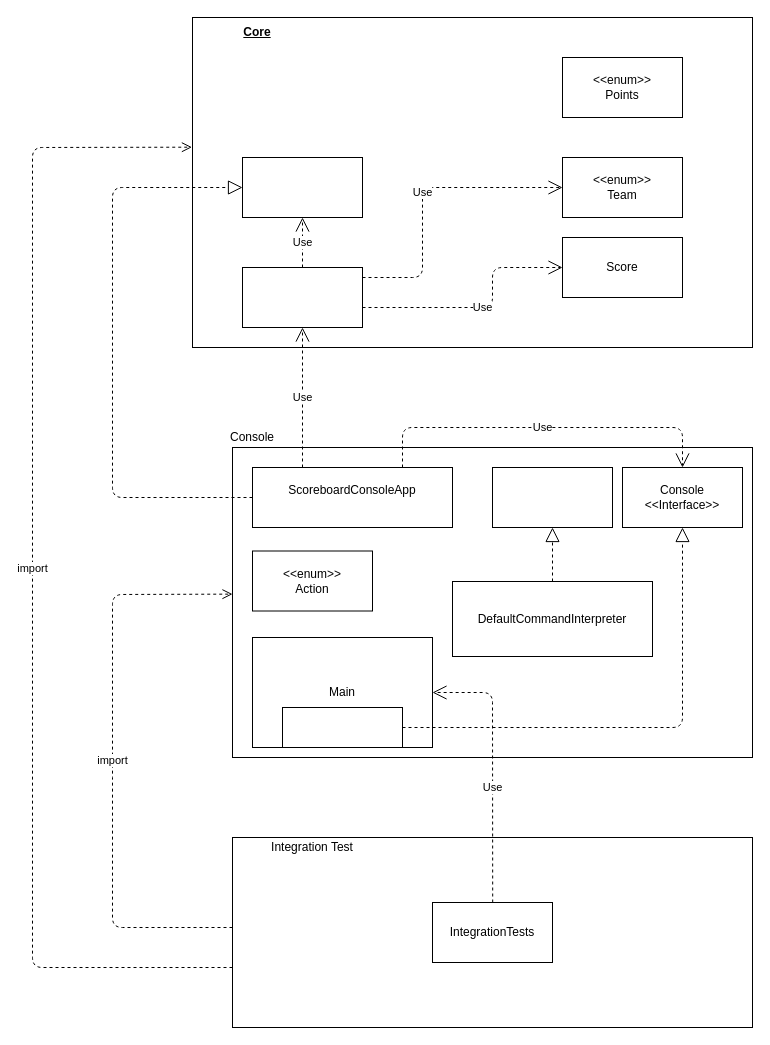
Image size: 770x1045. Some labels were removed from this diagram. Here are the shapes that lost their labels. From the top down, the box of each, then its label:
(242, 156, 362, 218): Scoreboard View <<Interface>>
(242, 266, 362, 328): Scoreboard Presenter
(492, 466, 612, 528): CommandInterpreter <<Interface>>
(282, 706, 402, 748): SystemConsole
